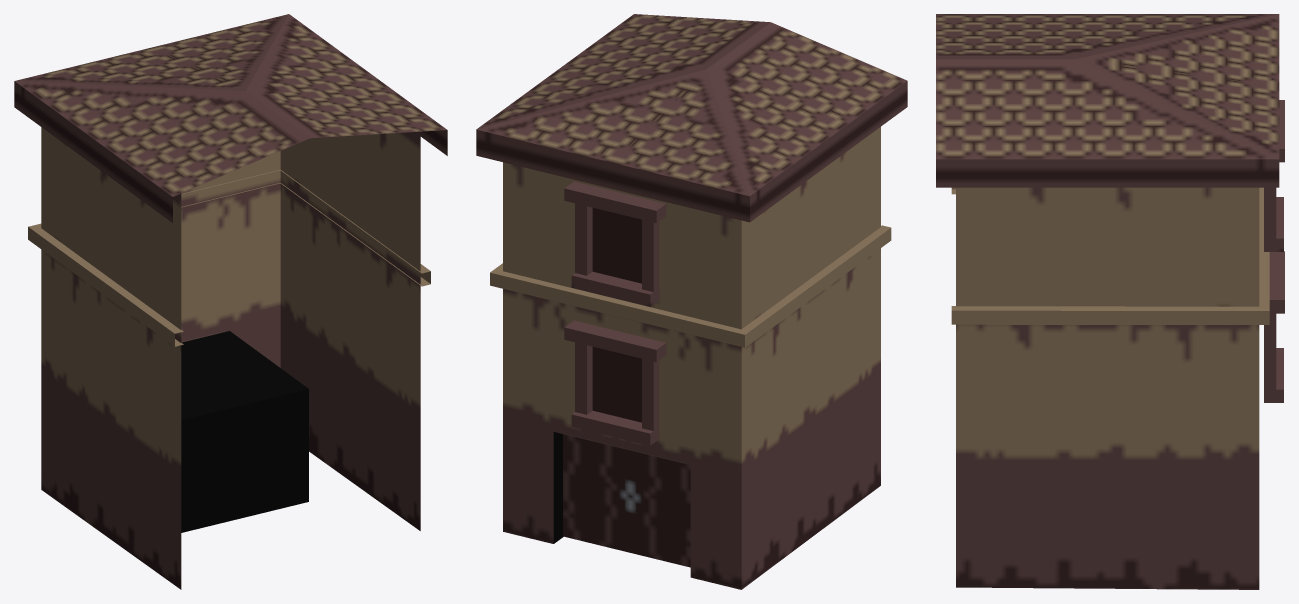
Rendered from House_medium.fbx.
The picture shows the model from 3 angles, left to right: view 1: azimuth 30°, elevation 25°; view 2: azimuth 150°, elevation 25°; view 3: azimuth 270°, elevation 25°; orthographic projection. The views are drawn at different scales.
Parts seen in each view (by area): view 1: House_medium; view 2: House_medium; view 3: House_medium.
Part boxes in pixels (x1,y1,x2,y2): House_medium: [14, 14, 447, 589]; House_medium: [476, 14, 907, 589]; House_medium: [936, 14, 1284, 589].
Size of the model in its own units: 2 by 2.03 by 3.
1 material, 1 textured.
